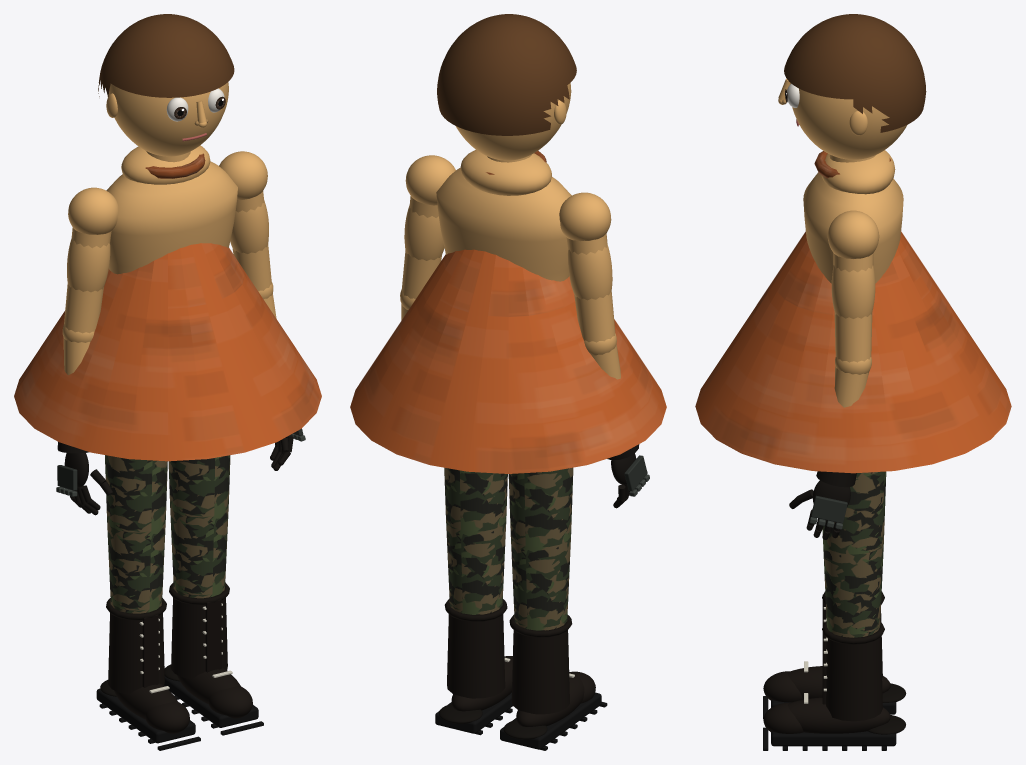
Rendered from 08-poncho.glb.
3 renders of one model, left to right at view 1: azimuth 30°, elevation 25°; view 2: azimuth 150°, elevation 25°; view 3: azimuth 270°, elevation 25°, orthographic. The views are drawn at different scales.
Bounding box in the file's own units: 0.72 × 1.77 × 0.72.
23 materials, 5 textured.
